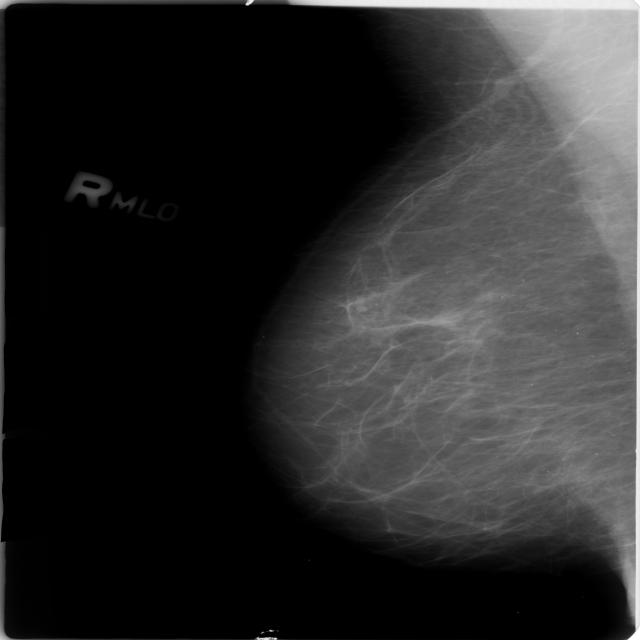normal: (252, 2, 640, 546)
